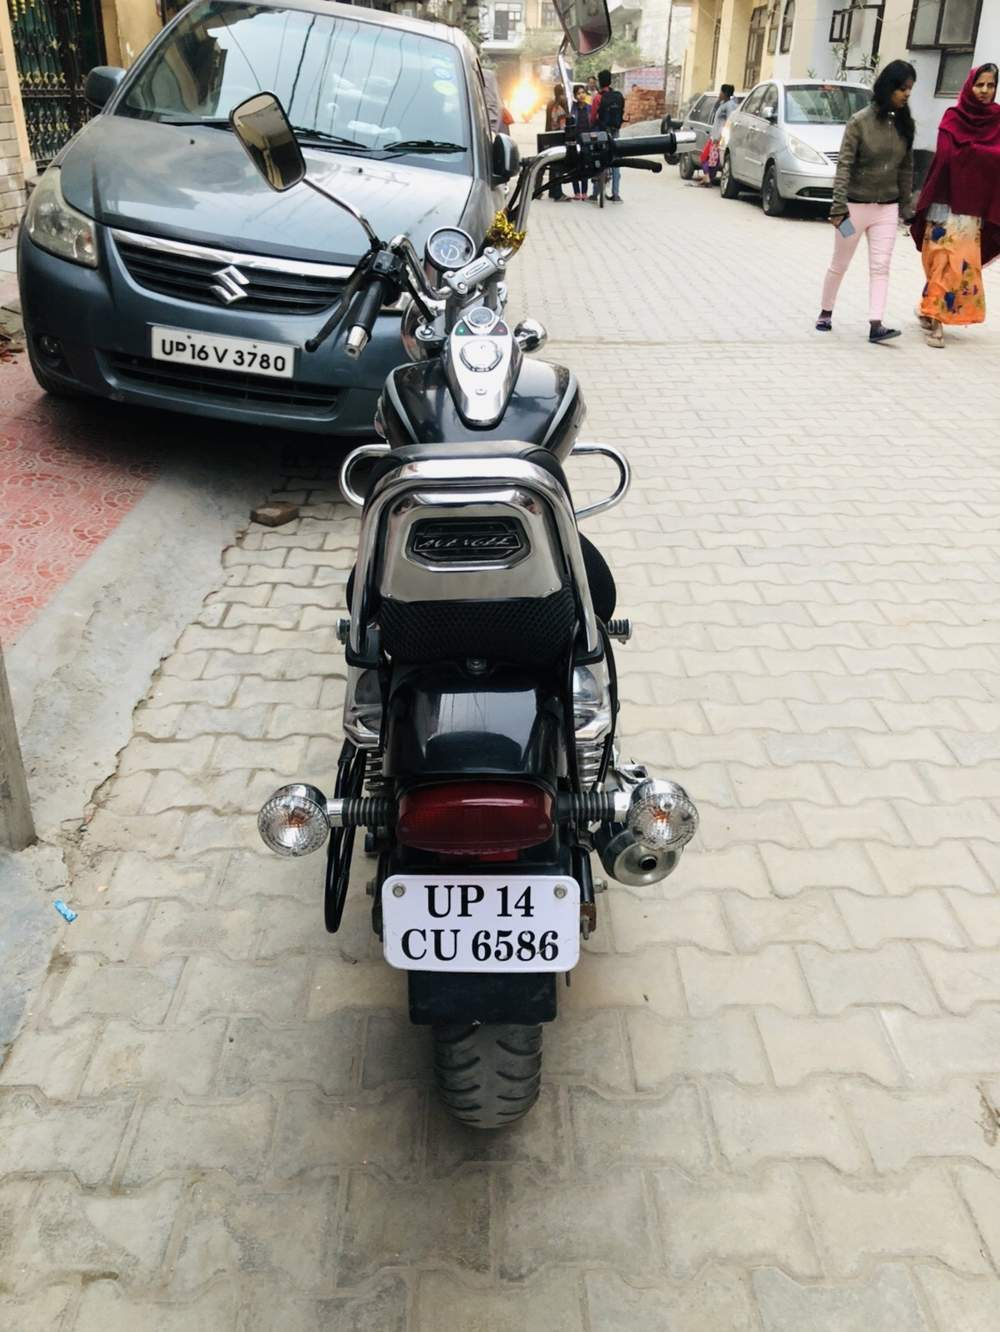number_plate: (371, 860, 593, 977)
